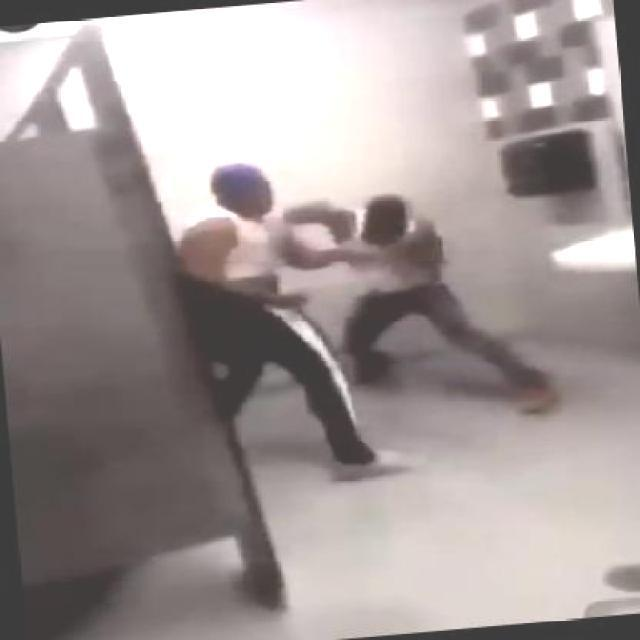fight: (167, 137, 558, 488)
